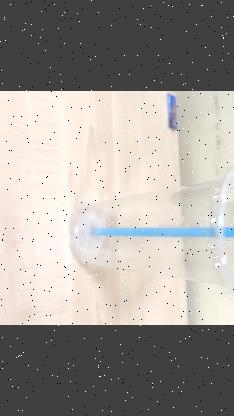Others: (69, 165, 234, 299)
